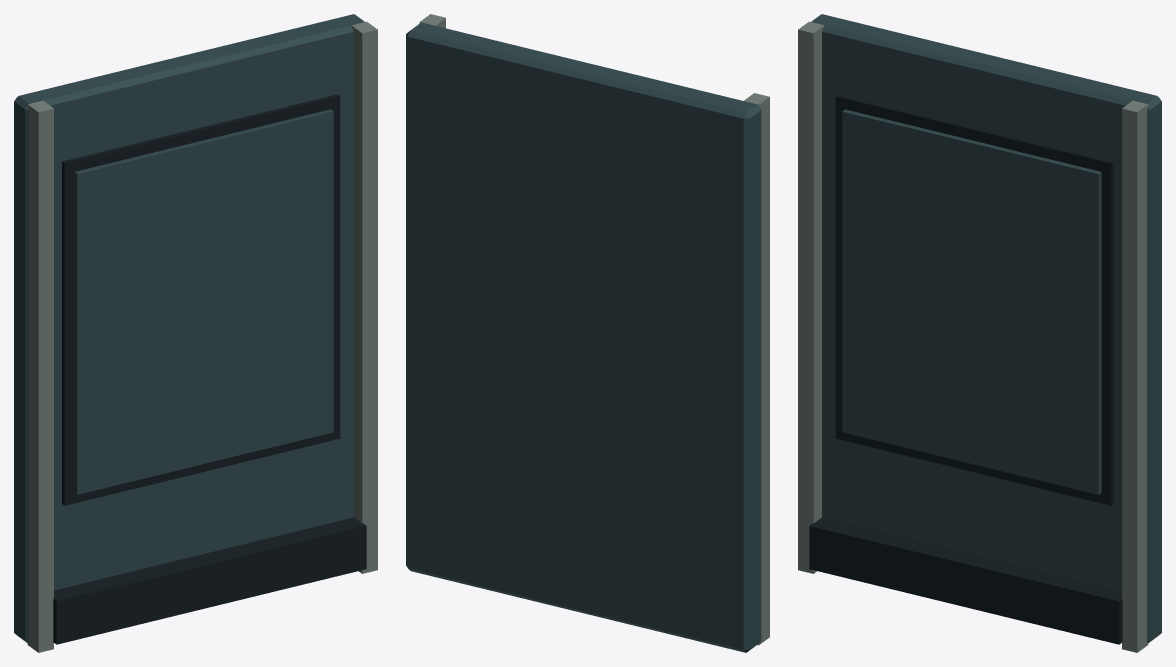
The model's file is wall_panel.glb.
3 renders of one model, left to right at view 1: azimuth 30°, elevation 25°; view 2: azimuth 150°, elevation 25°; view 3: azimuth 330°, elevation 25°, orthographic.
Visible parts, largest first — view 1: wall_panel; view 2: wall_panel; view 3: wall_panel.
Boxes of the visible parts, x1,y1,x2,y2 form: wall_panel: (14,14,377,652); wall_panel: (406,14,769,652); wall_panel: (798,14,1161,652).
Size of the model in its own units: 2 by 3 by 0.28.
